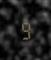nine: (19, 20, 30, 39)
